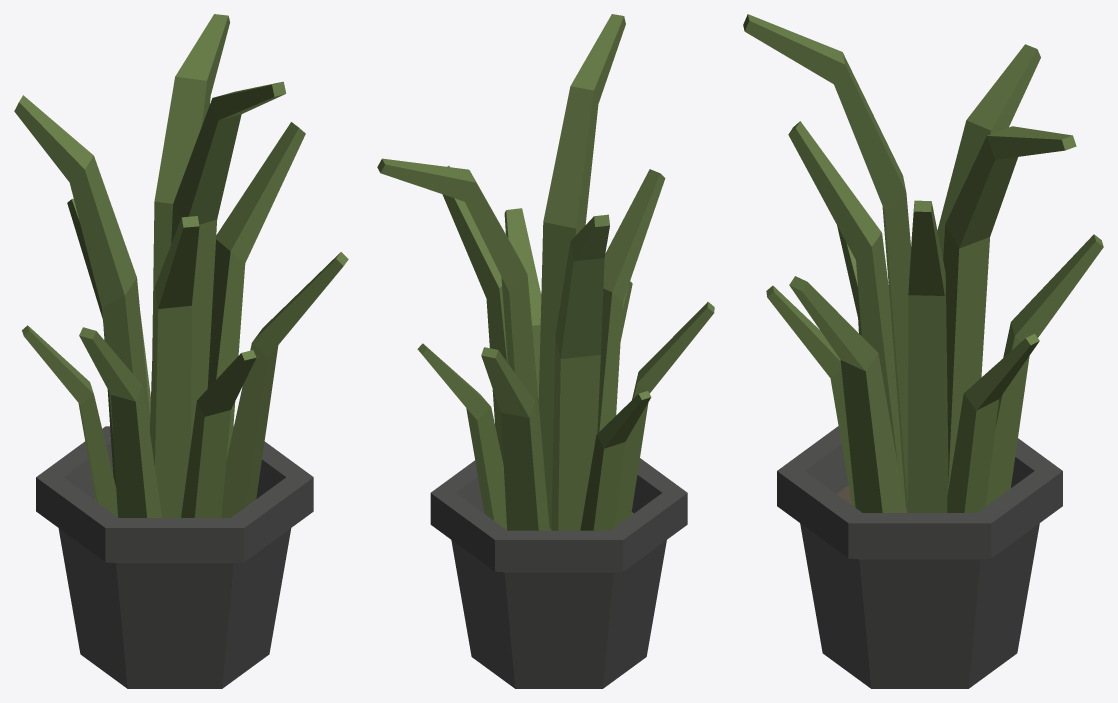
File: SM_Prop_PotPlant_04.fbx
3 views of the same model, side by side, from view 1: azimuth 30°, elevation 25°; view 2: azimuth 150°, elevation 25°; view 3: azimuth 270°, elevation 25° (orthographic). The views are drawn at different scales.
Visible parts, largest first — view 1: SM_Prop_PotPlant_04; view 2: SM_Prop_PotPlant_04; view 3: SM_Prop_PotPlant_04.
Part boxes in pixels (<box>): SM_Prop_PotPlant_04: <box>14,14,348,688</box>; SM_Prop_PotPlant_04: <box>377,14,714,688</box>; SM_Prop_PotPlant_04: <box>743,14,1103,688</box>.
Size of the model in its own units: 28.53 by 65.73 by 33.26.
